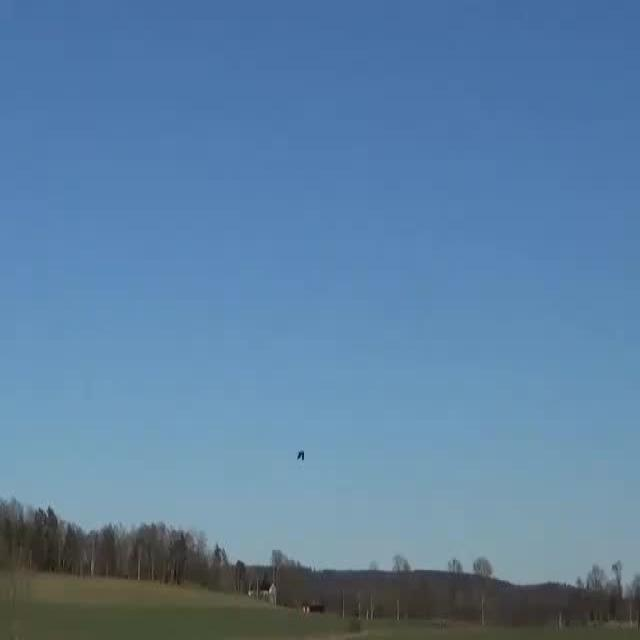bird: (295, 448, 308, 464)
